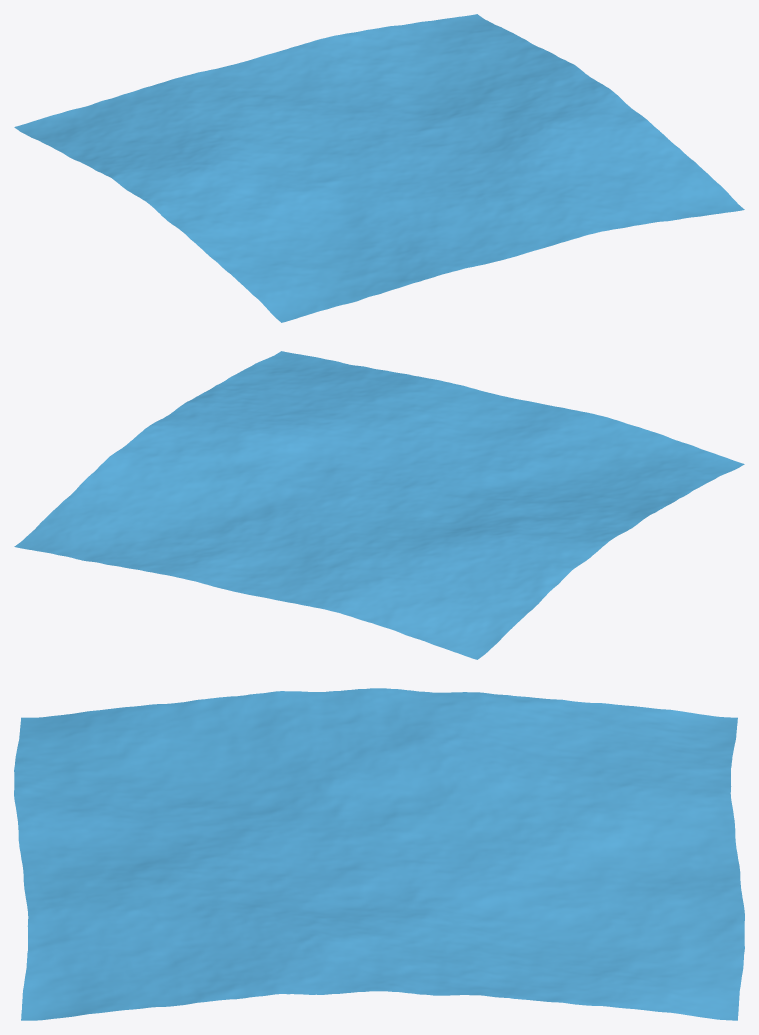
Rendered from water.glb.
3 renders of one model, top to bottom at view 1: azimuth 30°, elevation 25°; view 2: azimuth 150°, elevation 25°; view 3: azimuth 270°, elevation 25°, orthographic. The views are drawn at different scales.
Parts seen in each view (by area): view 1: Plane.001; view 2: Plane.001; view 3: Plane.001.
Boxes of the visible parts, x1=… form: Plane.001: x1=14, y1=14, x2=744, y2=322; Plane.001: x1=14, y1=351, x2=744, y2=659; Plane.001: x1=14, y1=688, x2=744, y2=1020.
Size of the model in its own units: 1429 by 64.55 by 1449.
1 material, 1 textured.
